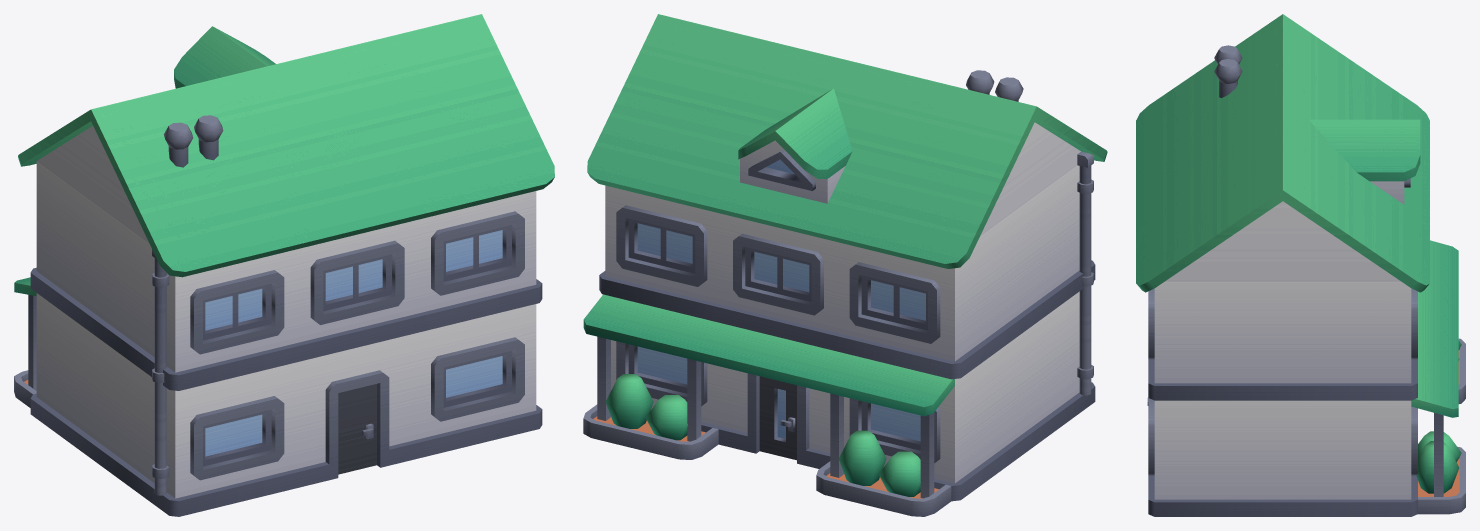
The model's file is building-type-e.glb.
The picture shows the model from 3 angles, left to right: view 1: azimuth 30°, elevation 25°; view 2: azimuth 150°, elevation 25°; view 3: azimuth 270°, elevation 25°; orthographic projection. The views are drawn at different scales.
Visible parts, largest first — view 1: building-type-e; view 2: building-type-e; view 3: building-type-e.
Boxes of the visible parts, bbox=[...] form: building-type-e: bbox=[14, 14, 554, 516]; building-type-e: bbox=[583, 14, 1107, 516]; building-type-e: bbox=[1136, 14, 1465, 516].
Size of the model in its own units: 1.3 by 1.14 by 1.03.
Materials: 1 (1 with a texture image).
